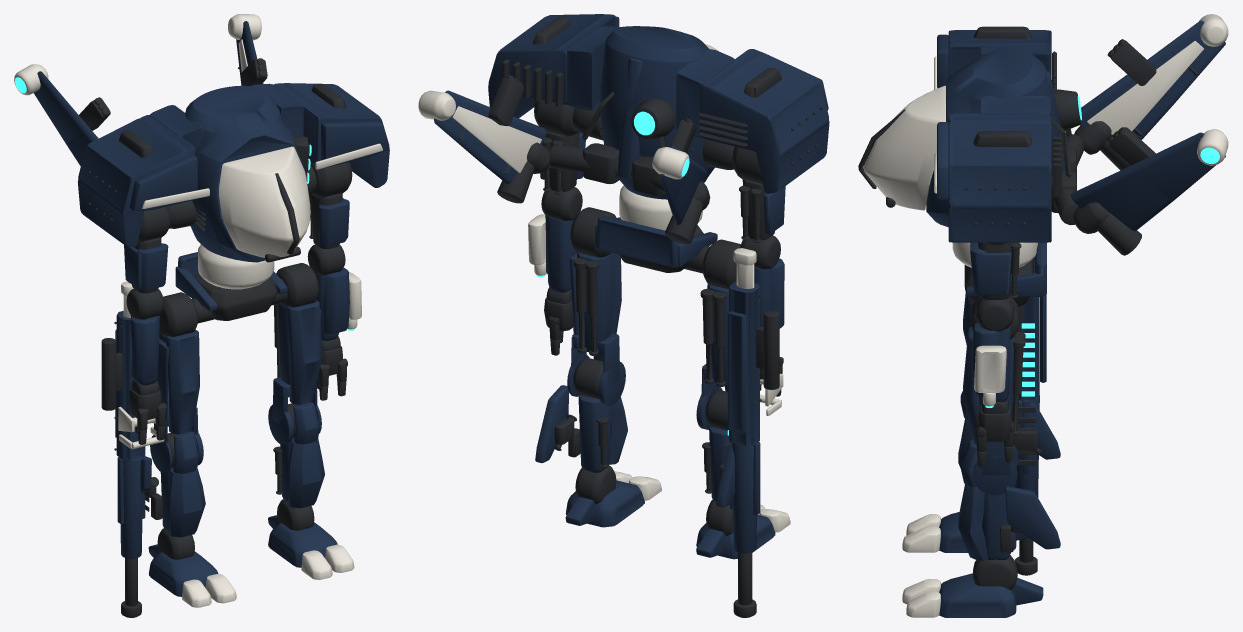
Rendered from titan_l1_v3.fbx.
3 views of the same model, side by side, from view 1: azimuth 30°, elevation 25°; view 2: azimuth 150°, elevation 25°; view 3: azimuth 270°, elevation 25° (orthographic). The views are drawn at different scales.
Parts seen in each view (by area): view 1: L1_Mantle_R, L1_Torso_Upper, L1_Hatch, L1_Mantle_L, L1_Thigh_Plate_L, L1_Thigh_Plate_R, L1_Pelvis, L1_Rifle_Shroud, L1_Wing_R, L1_Waist, L1_Shin_Plate_R, L1_Shin_Plate_L (+40 smaller); view 2: L1_Mantle_R, L1_Torso_Upper, L1_Mantle_L, L1_Rifle_Receiver, L1_Collar, L1_Rifle_Shroud, L1_Wing_L, L1_Wing_Top_L, L1_Wing_Boom_L, L1_Thigh_Clevis_L, L1_Shin_L, L1_Thigh_L (+54 smaller); view 3: L1_Mantle_L, L1_Wing_L, L1_Hatch, L1_Torso_Upper, L1_Wing_R, L1_Mantle_R, L1_Wing_Top_R, L1_Foot_L, L1_Calf_Blade_L, L1_Rifle_Receiver, L1_Thigh_Clevis_L, L1_Tether (+34 smaller).
Part boxes in pixels (<box>): L1_Mantle_R: <box>77,105,203,247</box>; L1_Torso_Upper: <box>185,85,304,262</box>; L1_Hatch: <box>218,146,310,257</box>; L1_Mantle_L: <box>251,83,389,187</box>; L1_Thigh_Plate_L: <box>287,300,322,404</box>; L1_Thigh_Plate_R: <box>166,329,199,434</box>; L1_Pelvis: <box>192,273,287,323</box>; L1_Rifle_Shroud: <box>117,454,145,558</box>; L1_Wing_R: <box>34,71,98,166</box>; L1_Waist: <box>198,244,274,289</box>; L1_Shin_Plate_R: <box>168,468,205,537</box>; L1_Shin_Plate_L: <box>288,438,324,508</box>; L1_Mantle_R: <box>676,49,829,193</box>; L1_Torso_Upper: <box>600,26,714,199</box>; L1_Mantle_L: <box>488,14,619,118</box>; L1_Rifle_Receiver: <box>727,281,759,446</box>; L1_Collar: <box>595,216,717,267</box>; L1_Rifle_Shroud: <box>730,441,760,553</box>; L1_Wing_L: <box>434,90,546,184</box>; L1_Wing_Top_L: <box>452,106,541,172</box>; L1_Wing_Boom_L: <box>549,143,622,184</box>; L1_Thigh_Clevis_L: <box>567,333,625,405</box>; L1_Shin_L: <box>578,394,611,472</box>; L1_Thigh_L: <box>577,252,613,352</box>; L1_Mantle_L: <box>937,96,1051,242</box>; L1_Wing_L: <box>1070,132,1225,231</box>; L1_Hatch: <box>864,85,945,210</box>; L1_Torso_Upper: <box>926,46,1059,227</box>; L1_Wing_R: <box>1080,20,1225,139</box>; L1_Mantle_R: <box>937,30,1051,87</box>; L1_Wing_Top_R: <box>1087,41,1203,134</box>; L1_Foot_L: <box>939,573,1016,617</box>; L1_Calf_Blade_L: <box>1005,486,1060,549</box>; L1_Rifle_Receiver: <box>1019,259,1046,400</box>; L1_Thigh_Clevis_L: <box>973,441,1018,495</box>; L1_Tether: <box>974,345,1006,406</box>.
Size of the model in its own units: 3.56 by 6.35 by 3.81.
